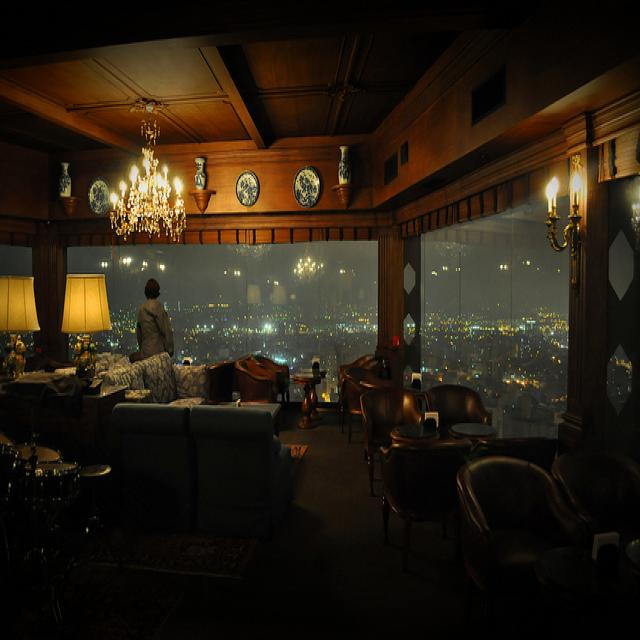People: (124, 261, 182, 377)
chair: (459, 456, 564, 640), (554, 406, 640, 629), (206, 397, 320, 545), (327, 310, 420, 442), (122, 400, 210, 525), (380, 430, 464, 556), (248, 319, 310, 431), (432, 368, 497, 474), (369, 385, 420, 490)
